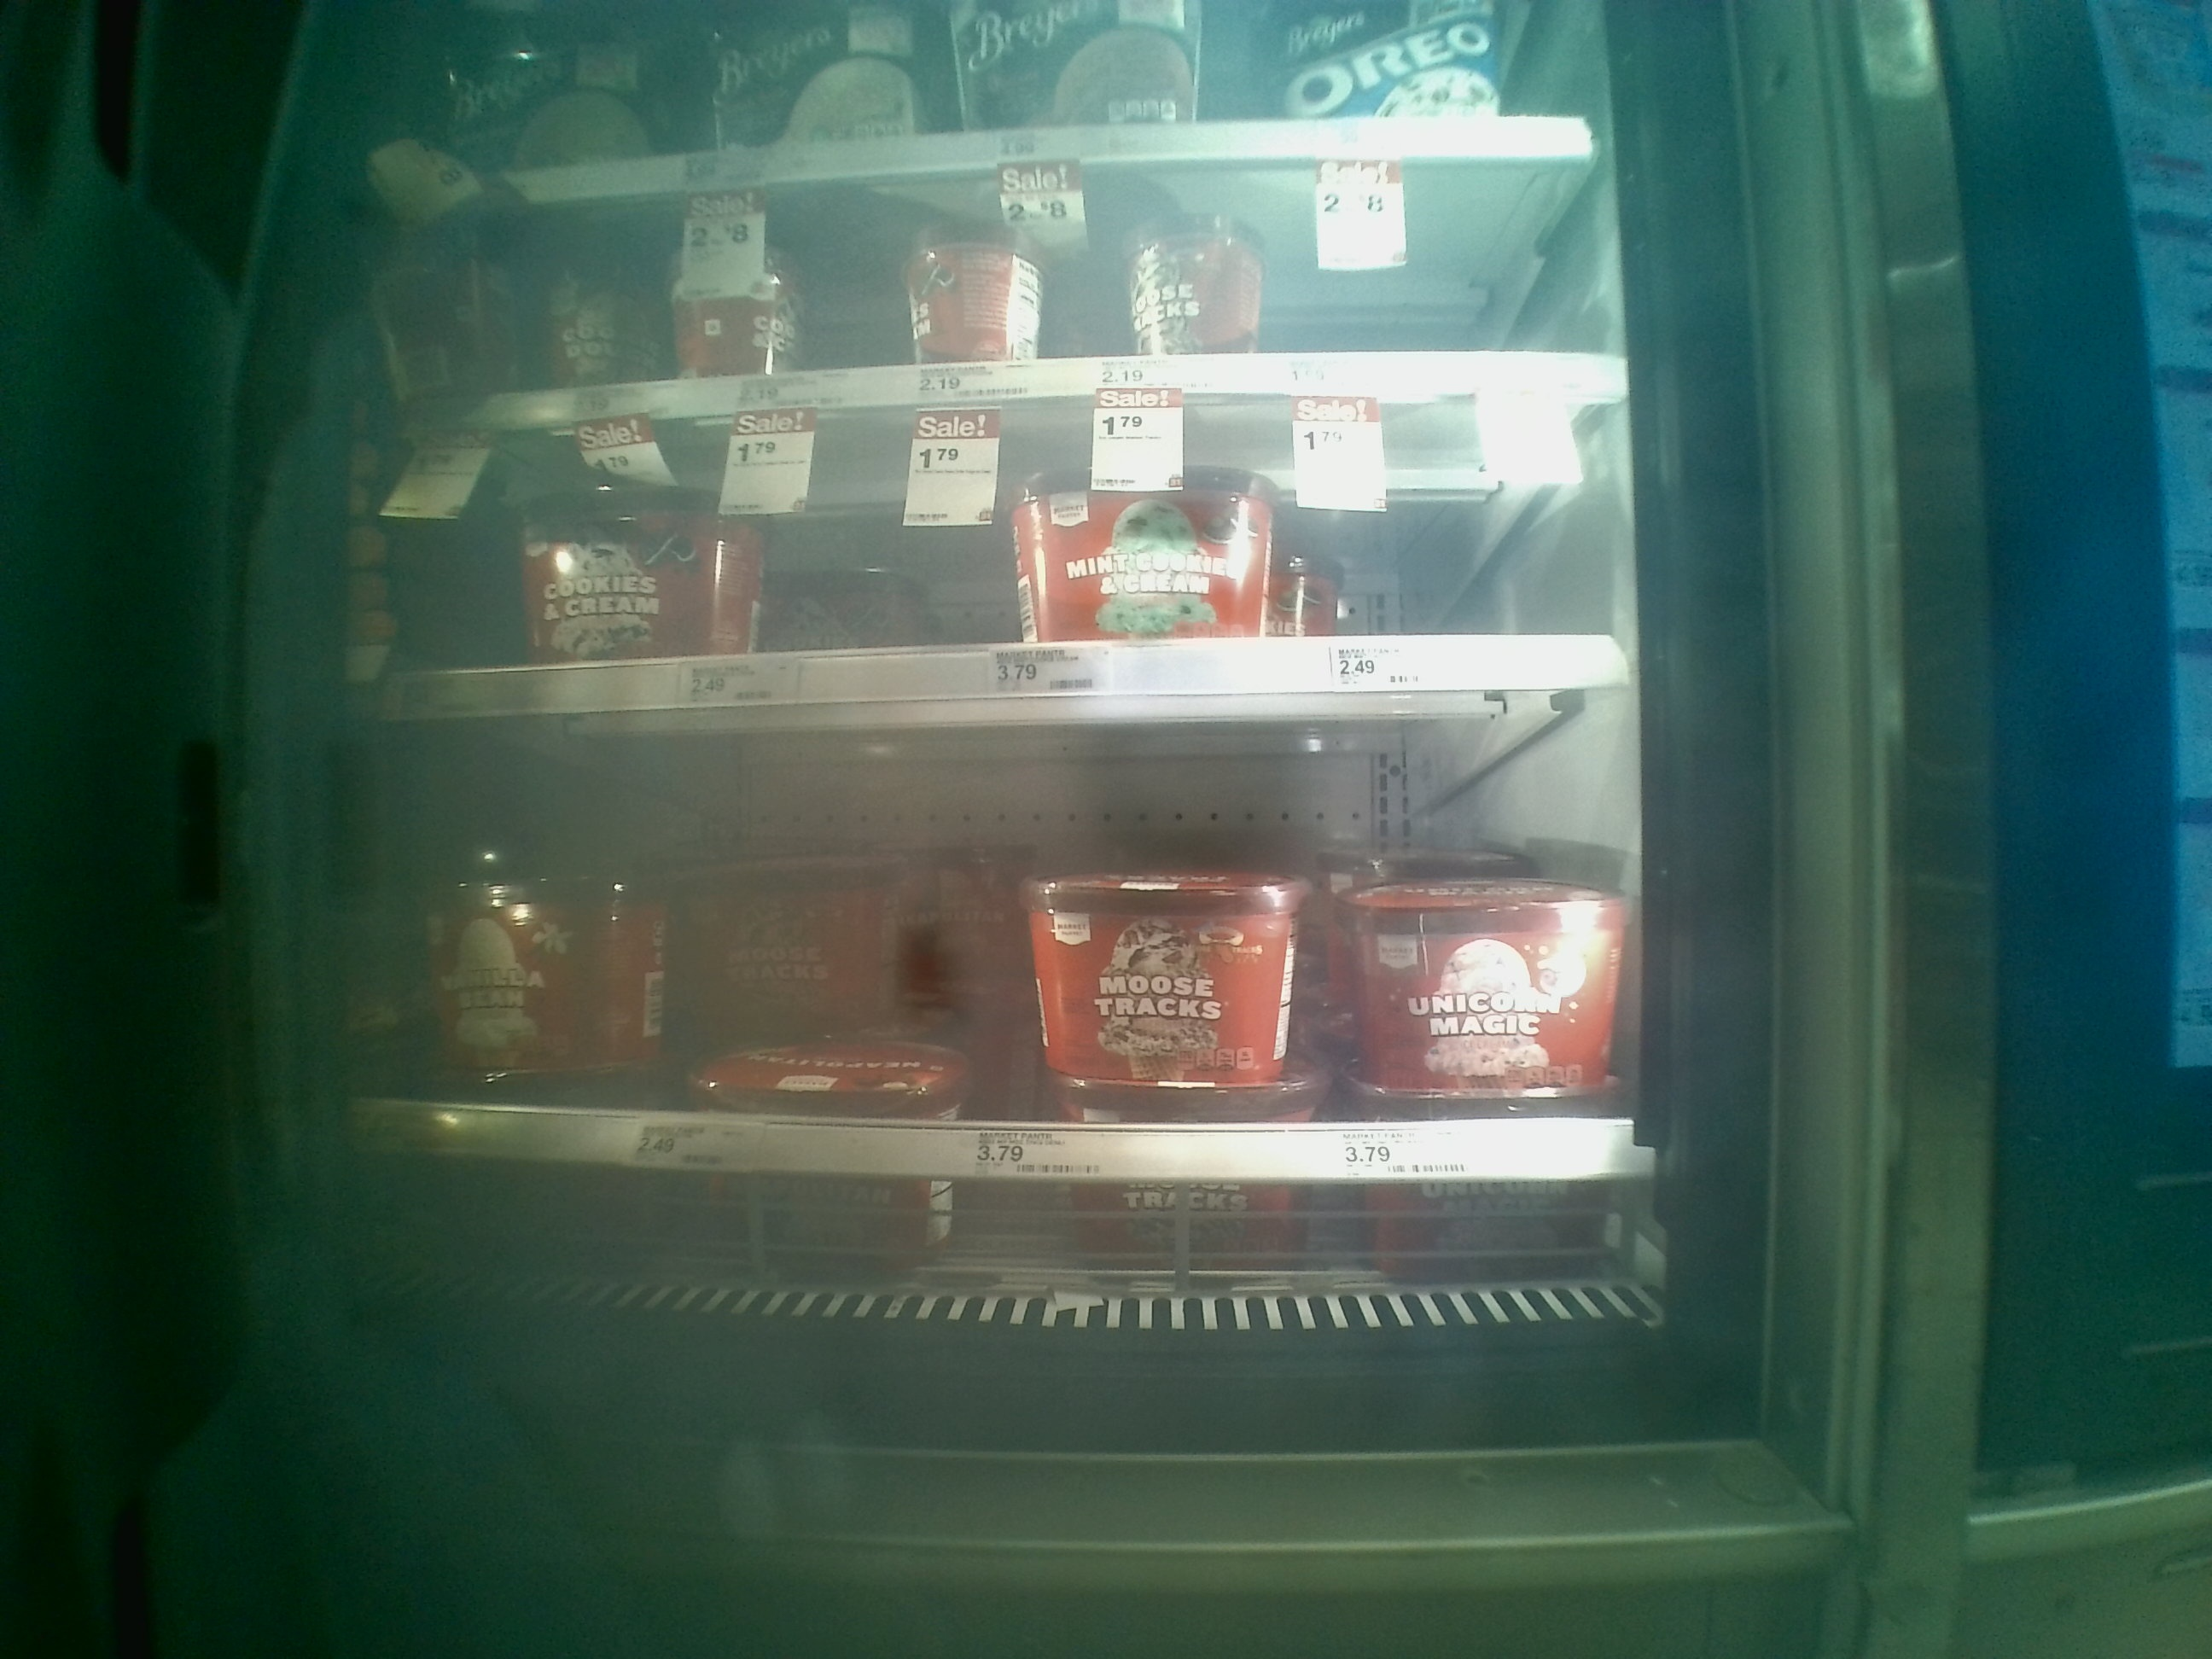shelf: (369, 699, 1649, 1213), (374, 139, 1634, 422), (381, 420, 1635, 697)
